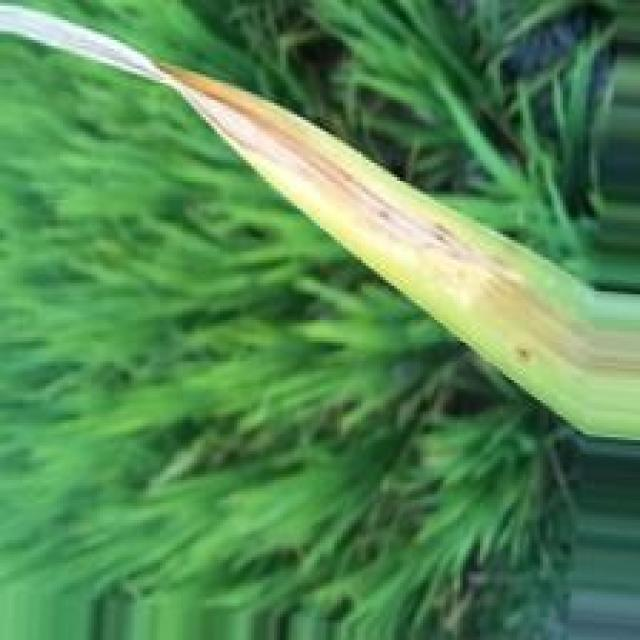Leaf_Scald: (0, 7, 496, 287)
